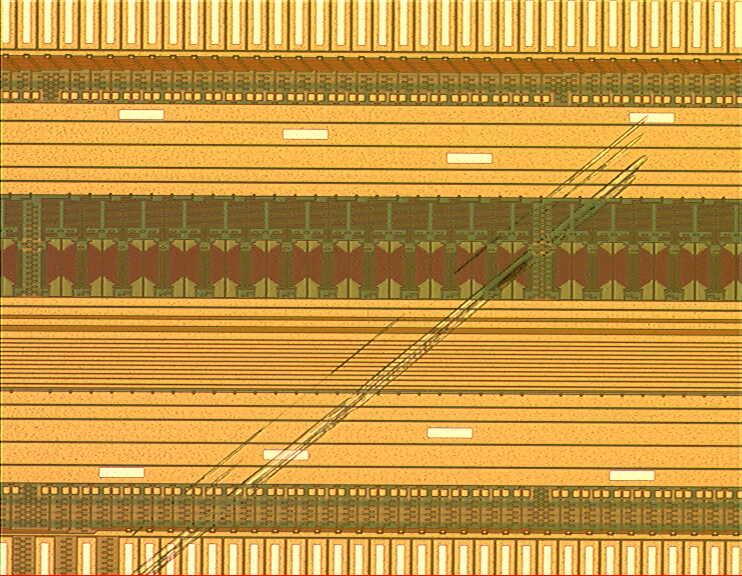SCRATCH: (124, 110, 666, 576)
